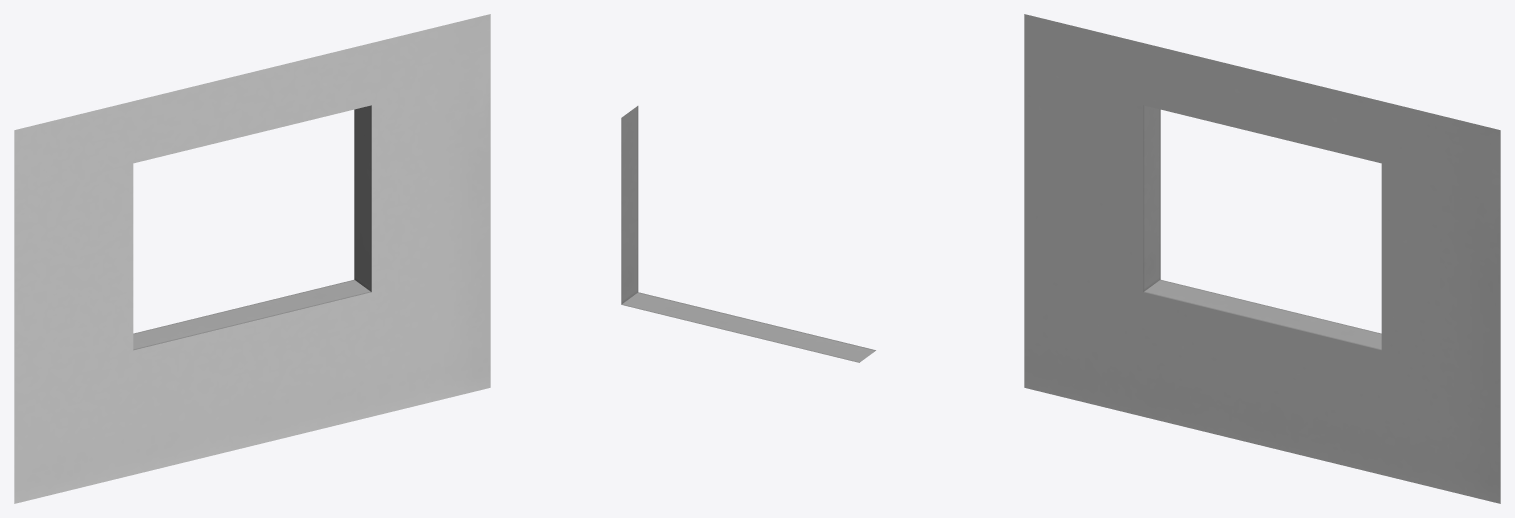
File: Wall2x1_5Win1x0_75Horz.gltf
3 renders of one model, left to right at view 1: azimuth 30°, elevation 25°; view 2: azimuth 150°, elevation 25°; view 3: azimuth 330°, elevation 25°, orthographic.
Parts seen in each view (by area): view 1: Wall2x1_5Win1x0_75HorzShape; view 2: Wall2x1_5Win1x0_75HorzShape; view 3: Wall2x1_5Win1x0_75HorzShape.
Part boxes in pixels (box(x1,y1,x2,y2)): Wall2x1_5Win1x0_75HorzShape: box(14, 14, 490, 503); Wall2x1_5Win1x0_75HorzShape: box(621, 106, 875, 362); Wall2x1_5Win1x0_75HorzShape: box(1024, 14, 1500, 503).
Size of the model in its own units: 200 by 150 by 12.5.
Materials: 1 (1 with a texture image).
